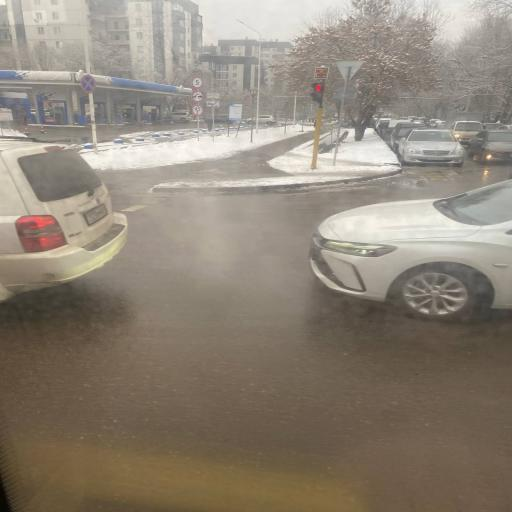glass_wall: (97, 132, 313, 204)
pole: (310, 80, 325, 107)
